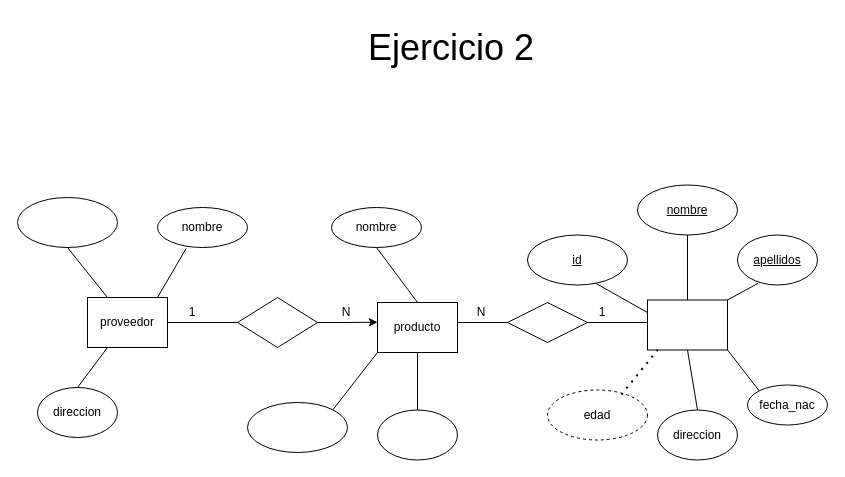
The diagram is 845 pixels wide and 477 high, and some of its shapes have lost their labels. Here are the shapes that lost their labels. From the top down, the box of each, then its label:
(16, 196, 118, 248): dni
(236, 296, 318, 348): suministra
(506, 302, 588, 342): compra
(646, 299, 728, 350): cliente
(246, 402, 348, 452): codigo
(376, 409, 458, 460): precio_unit
